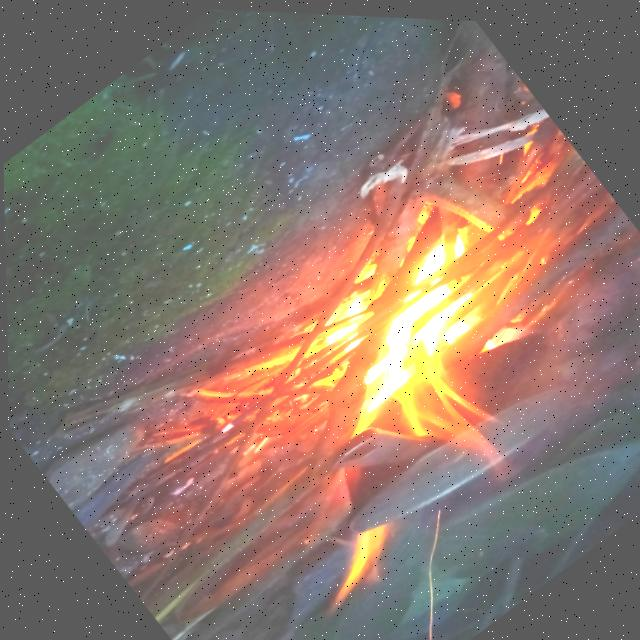Fire: (264, 197, 595, 537), (301, 508, 412, 614)
